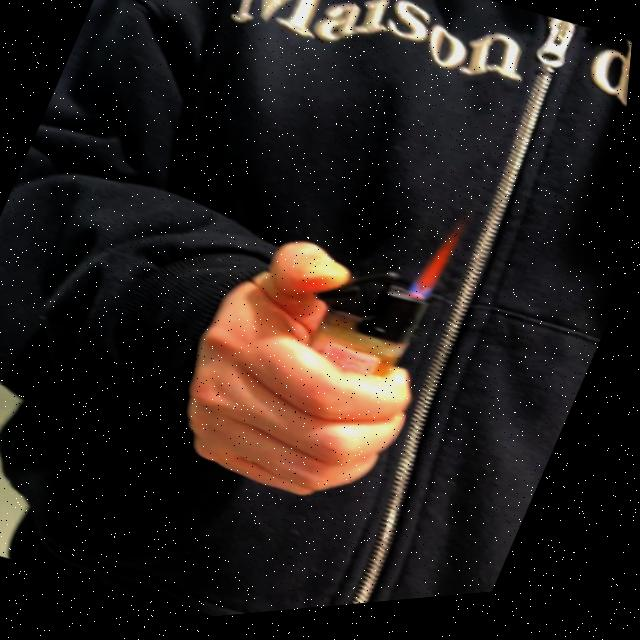Fire: (417, 218, 474, 309)
